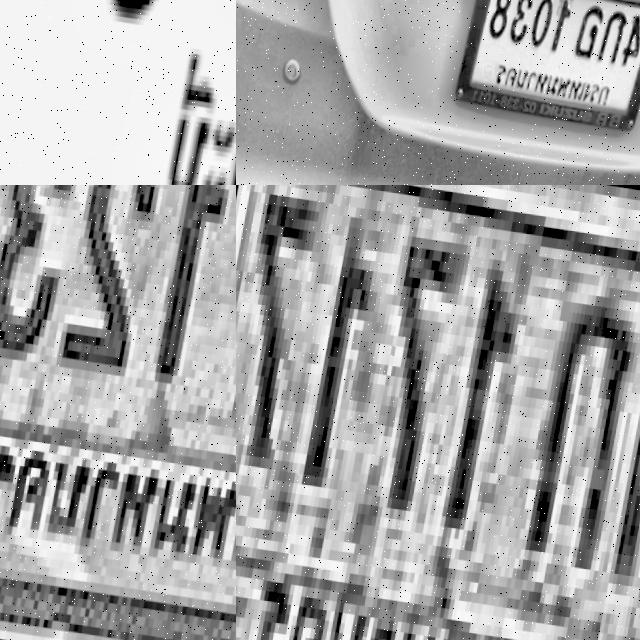license-plate: (236, 185, 640, 640), (0, 185, 236, 640), (0, 0, 236, 185), (459, 0, 640, 128)
